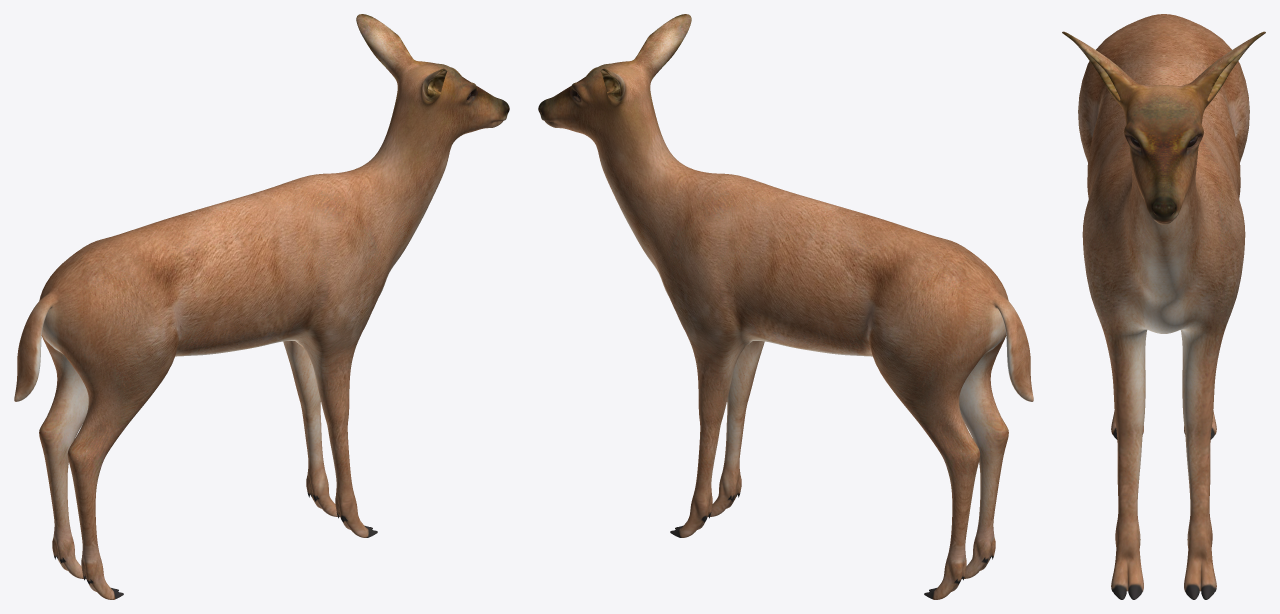
File: deer_3d_model_free.glb
The picture shows the model from 3 angles, left to right: view 1: azimuth 30°, elevation 25°; view 2: azimuth 150°, elevation 25°; view 3: azimuth 270°, elevation 25°; orthographic projection. The views are drawn at different scales.
Parts seen in each view (by area): view 1: 12961_White-Tailed_Deer_v1_l2; view 2: 12961_White-Tailed_Deer_v1_l2; view 3: 12961_White-Tailed_Deer_v1_l2.
Boxes of the visible parts, box(x1,y1,x2,y2) form: 12961_White-Tailed_Deer_v1_l2: box(14, 14, 509, 599); 12961_White-Tailed_Deer_v1_l2: box(538, 14, 1033, 599); 12961_White-Tailed_Deer_v1_l2: box(1062, 14, 1265, 599).
Bounding box in the file's own units: 1.64 × 1.48 × 0.4629.
Materials: 1 (1 with a texture image).
